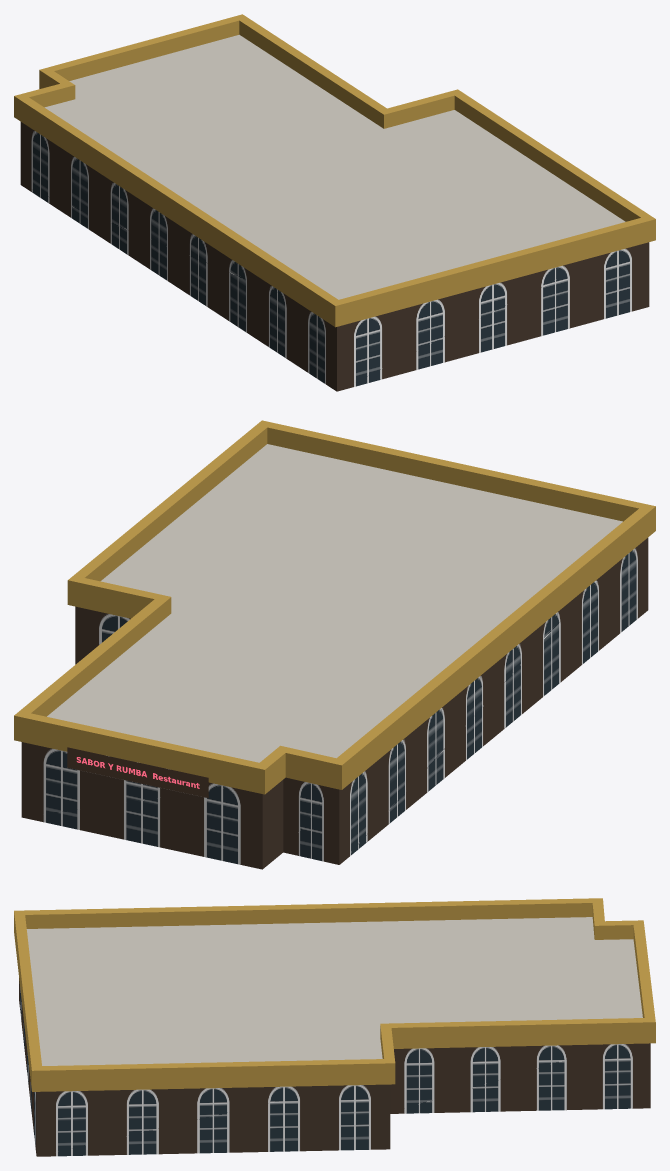
Rendered from saborrumba.glb.
3 views of the same model, one above another, from view 1: azimuth 30°, elevation 25°; view 2: azimuth 150°, elevation 25°; view 3: azimuth 270°, elevation 25° (orthographic). The views are drawn at different scales.
Visible parts, largest first — view 1: saborrumba_lod0; view 2: saborrumba_lod0; view 3: saborrumba_lod0.
Part boxes in pixels (left/top/right/bottom): saborrumba_lod0: left=14, top=14, right=655, bottom=391; saborrumba_lod0: left=14, top=420, right=655, bottom=869; saborrumba_lod0: left=14, top=898, right=655, bottom=1156.
Size of what is drawn, in the model's own units: 21.02 by 5 by 33.03.
4 materials, 2 textured.
